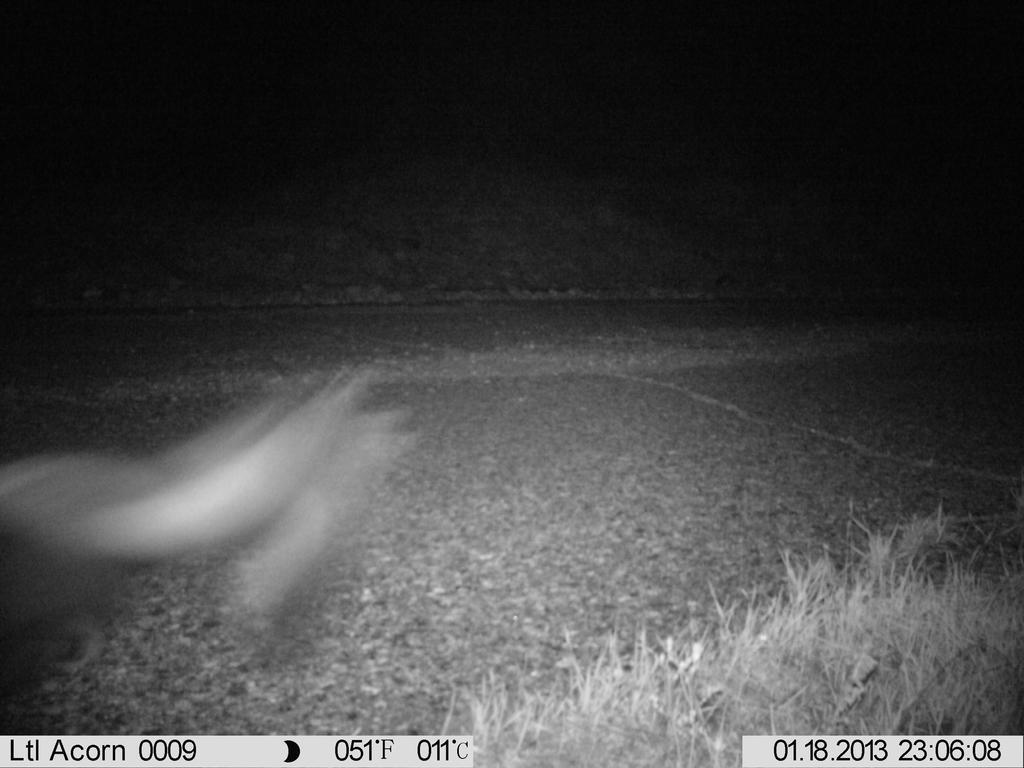skunk: (3, 346, 409, 690)
